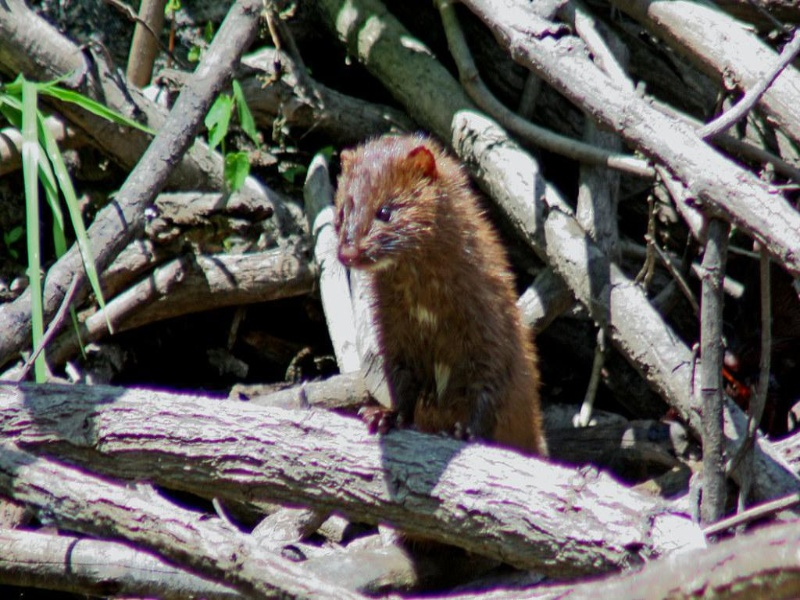minkish: (331, 134, 557, 464)
